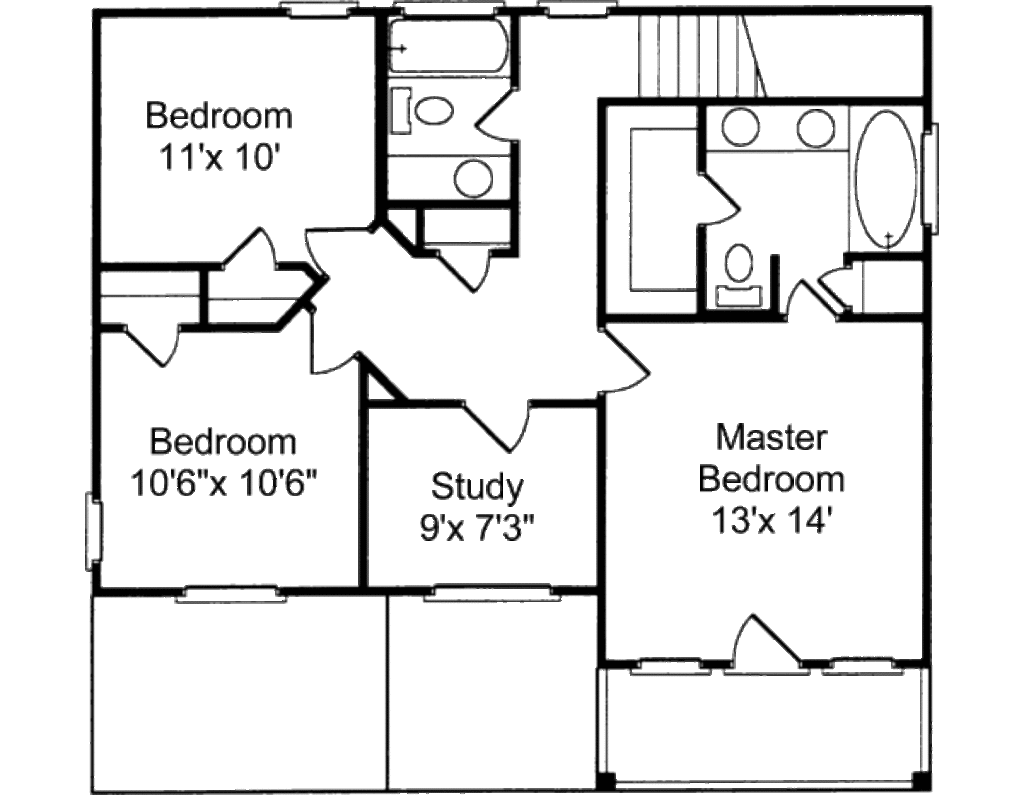door: (725, 613, 809, 679), (596, 332, 657, 395), (304, 312, 358, 382), (301, 225, 369, 279), (461, 403, 532, 453), (123, 321, 183, 374), (785, 277, 839, 331), (694, 171, 741, 230), (469, 91, 517, 146), (220, 229, 277, 275), (432, 252, 491, 296)
large_sink: (712, 238, 767, 312), (387, 85, 457, 139)
small_sink: (703, 102, 848, 158), (389, 154, 511, 200)
stairs: (627, 14, 770, 100)
tub: (848, 107, 925, 259), (385, 16, 512, 83)
windows: (422, 582, 562, 607), (167, 581, 288, 608), (627, 654, 711, 681), (822, 654, 901, 675), (85, 493, 101, 572)
